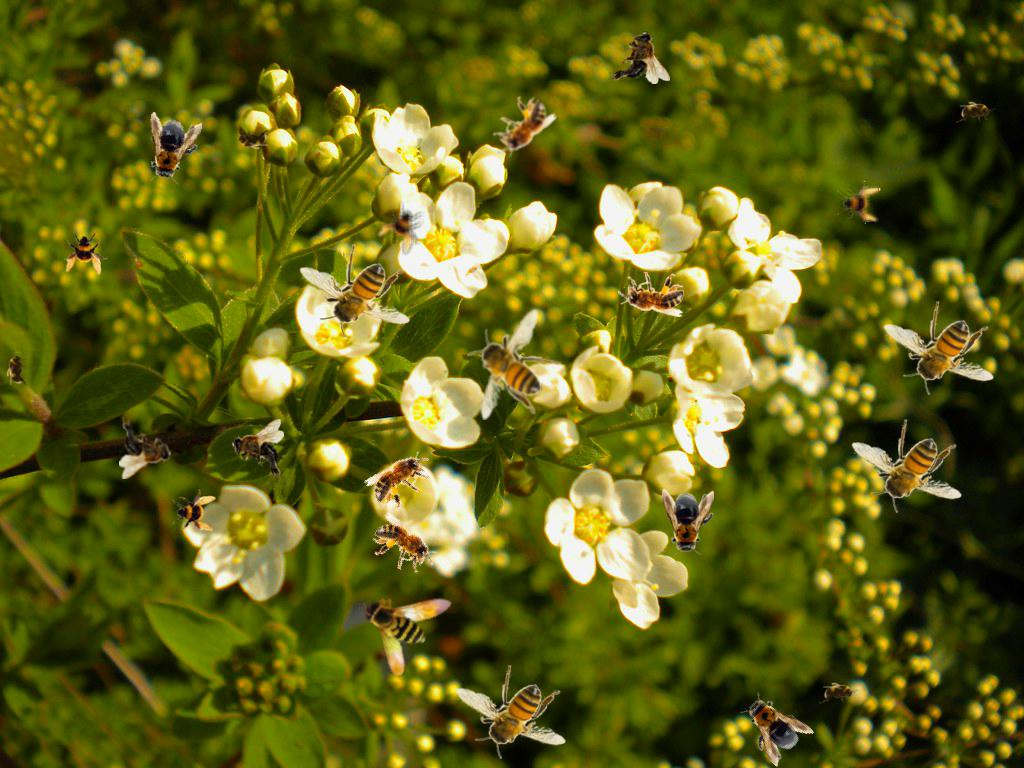Bee: (358, 572, 470, 682), (851, 419, 962, 513), (455, 665, 566, 759), (299, 244, 410, 338), (883, 301, 994, 395), (467, 309, 561, 420), (729, 683, 815, 768), (362, 439, 442, 518), (482, 87, 560, 168), (365, 511, 445, 582), (138, 111, 204, 189), (373, 198, 433, 258), (662, 489, 714, 557), (119, 417, 172, 479), (608, 31, 670, 84), (231, 419, 284, 481), (618, 272, 684, 317), (837, 180, 881, 224), (172, 489, 216, 533), (64, 231, 108, 275), (819, 682, 859, 704), (232, 128, 272, 150), (956, 101, 996, 123), (6, 349, 28, 389)
